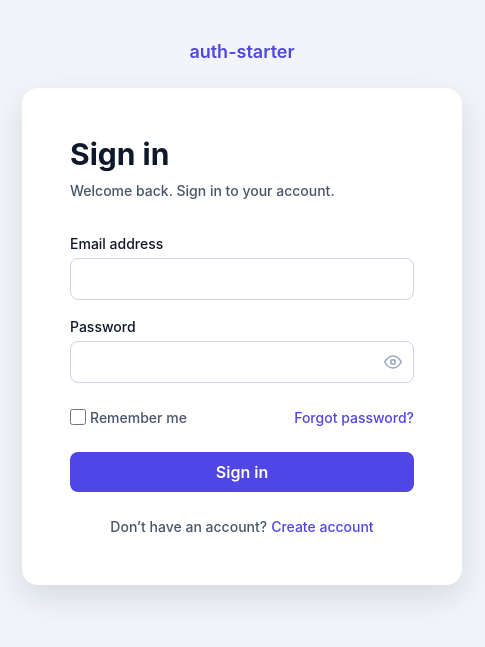
LoginPage › Failed login › shows generic error message when login throws a non-Error
Type "test@example.com" into the field labelled "Email address".
click(242, 278); type("test@example.com")  # box [70,258,414,300]
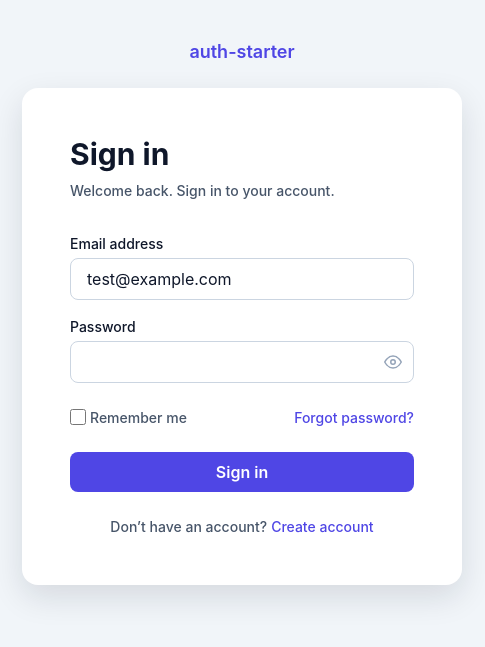
Type "wrongpassword" into the password field labelled "Password".
click(242, 362); type("wrongpassword")  # box [70,340,414,382]
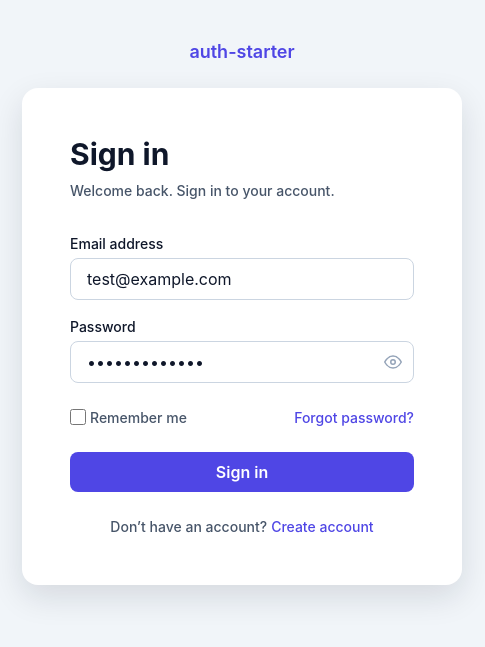
Submit the form
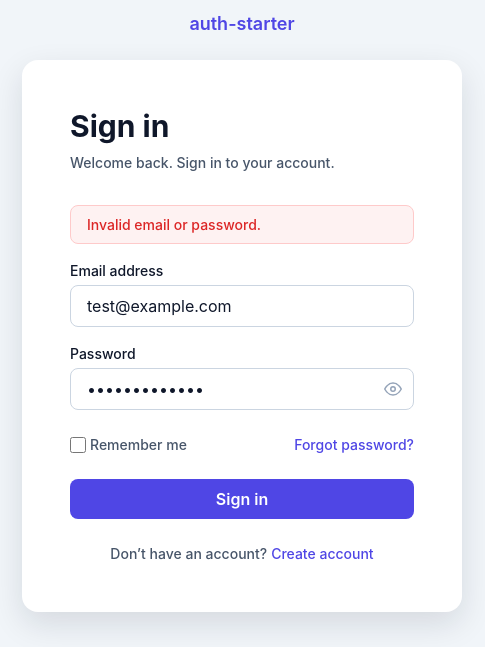
Expected: the message reads "Invalid email or password.", [87,216,261,233]
